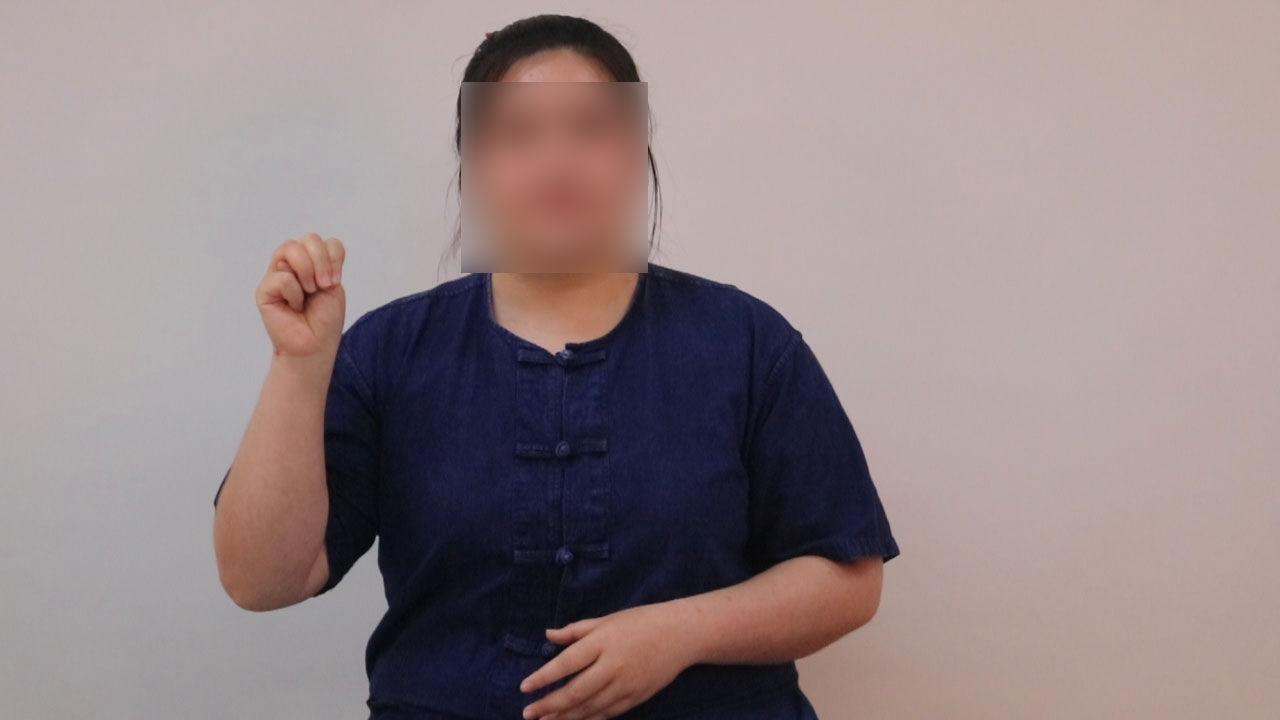mor: (248, 211, 370, 365)
